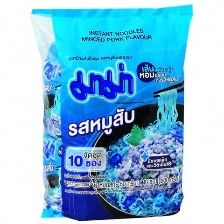snack: (24, 0, 199, 224)
